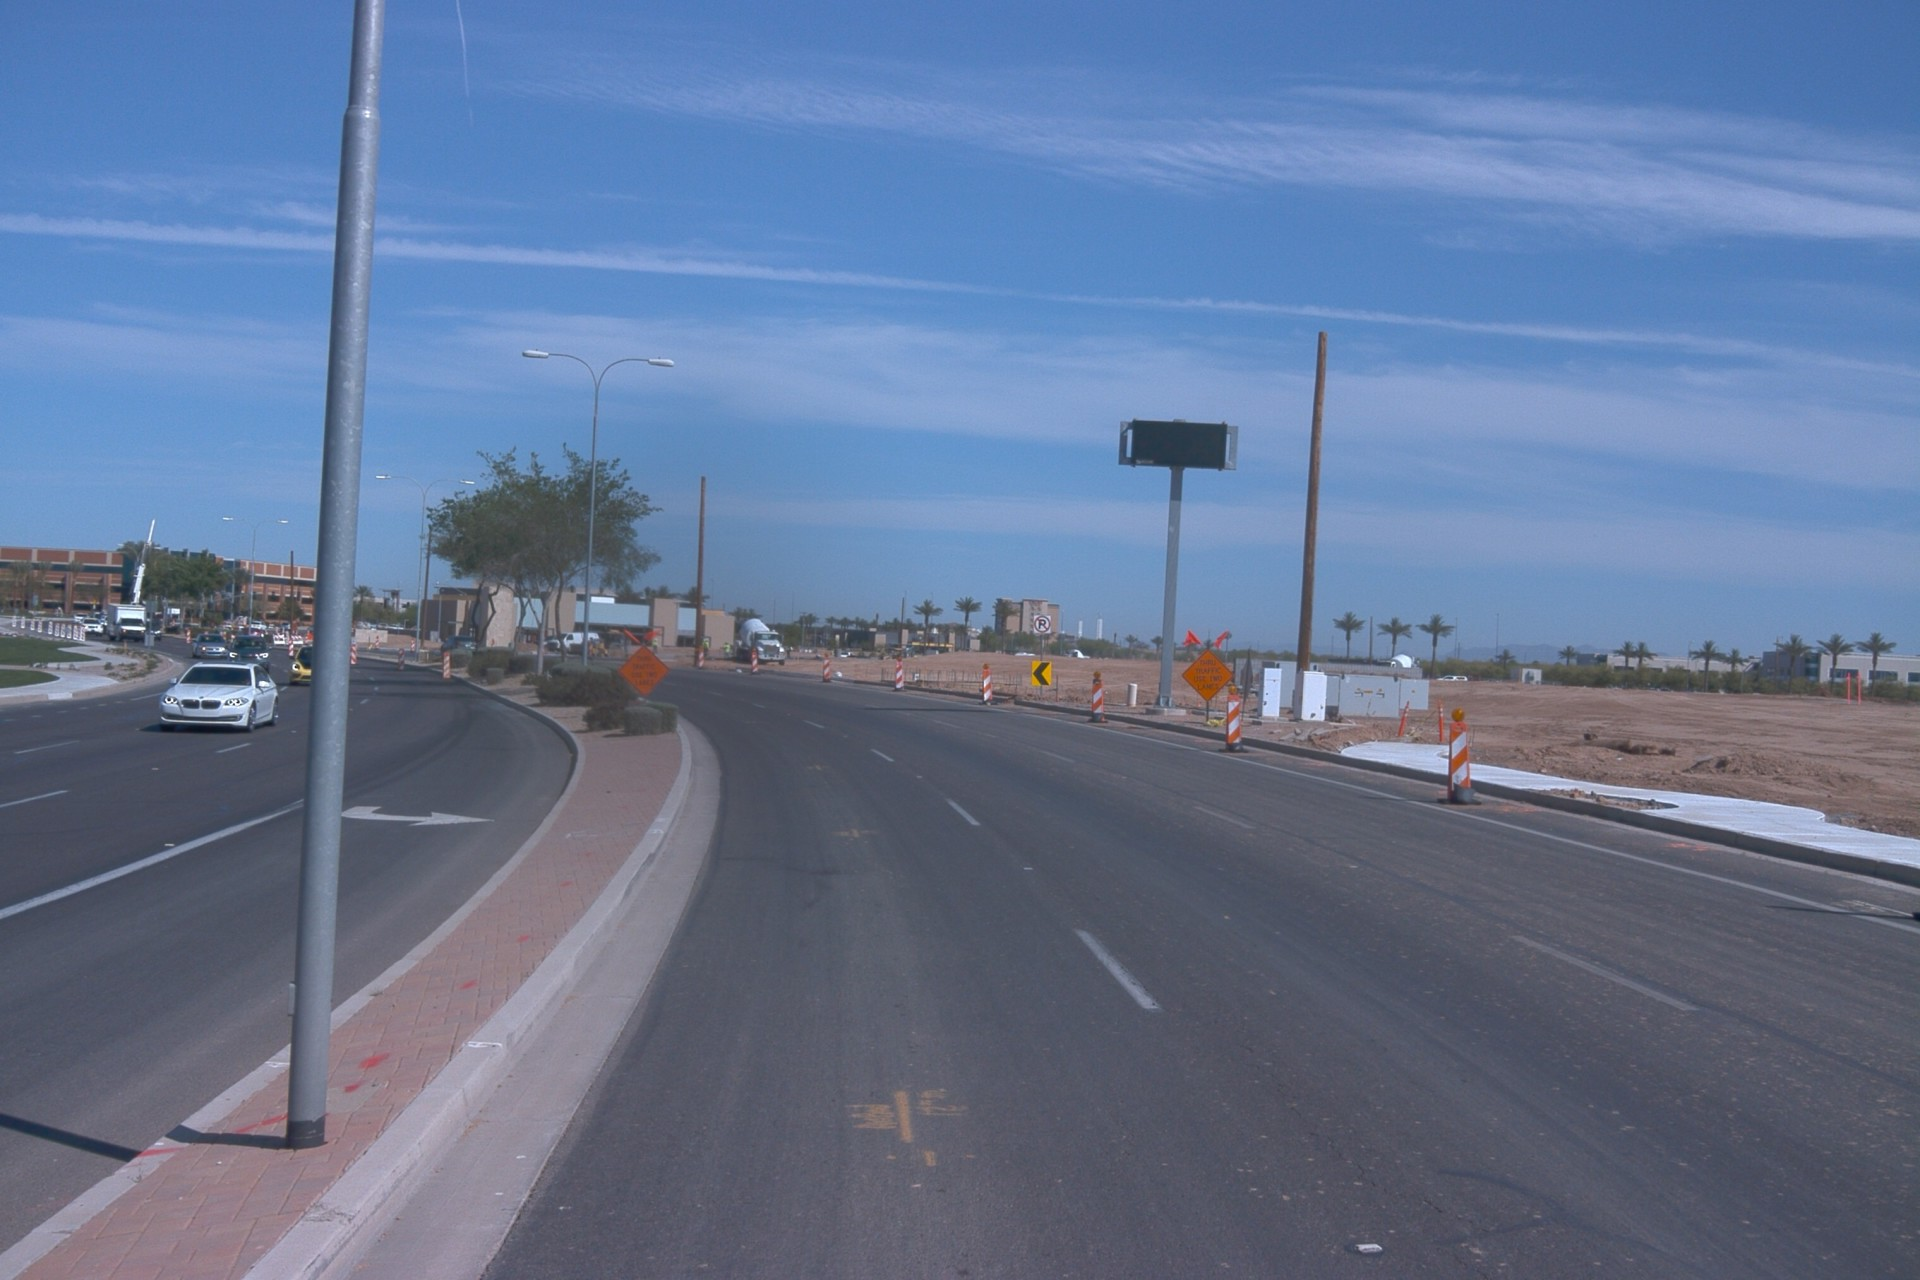TYPE_PEDESTRIAN: (722, 641, 731, 661), (650, 638, 658, 657), (702, 639, 709, 660), (701, 638, 707, 658)
TYPE_VEHICLE: (93, 513, 164, 648), (159, 663, 282, 736), (224, 631, 273, 672), (104, 604, 147, 644), (288, 645, 319, 688), (545, 632, 603, 652), (192, 630, 229, 658), (1373, 650, 1419, 669), (439, 634, 478, 654), (878, 646, 917, 662), (236, 625, 266, 643), (79, 617, 105, 636), (145, 616, 161, 643), (1436, 675, 1469, 683), (1011, 650, 1037, 659), (387, 621, 404, 631), (733, 637, 746, 649), (75, 612, 90, 622), (839, 650, 854, 660), (543, 638, 556, 645)
